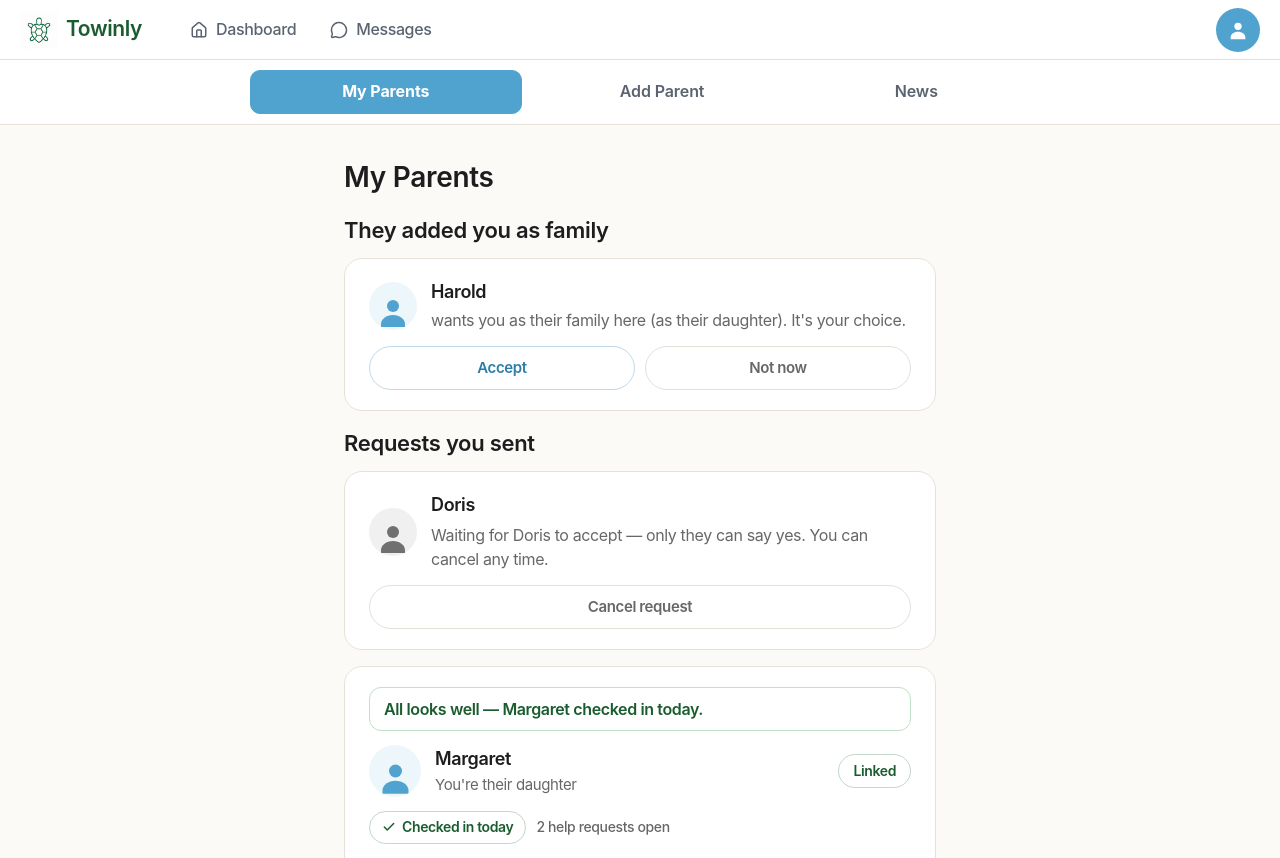
Test case: FamilyHome › explains the empty alert feed in plain words
expect the text "Margaret" is shown: met, box [435,748,511,769]
What coordinates should you click on to do the following:
click the tab "News"
I would click on:
 (916, 92)
Its box is [802,70,1030,114].
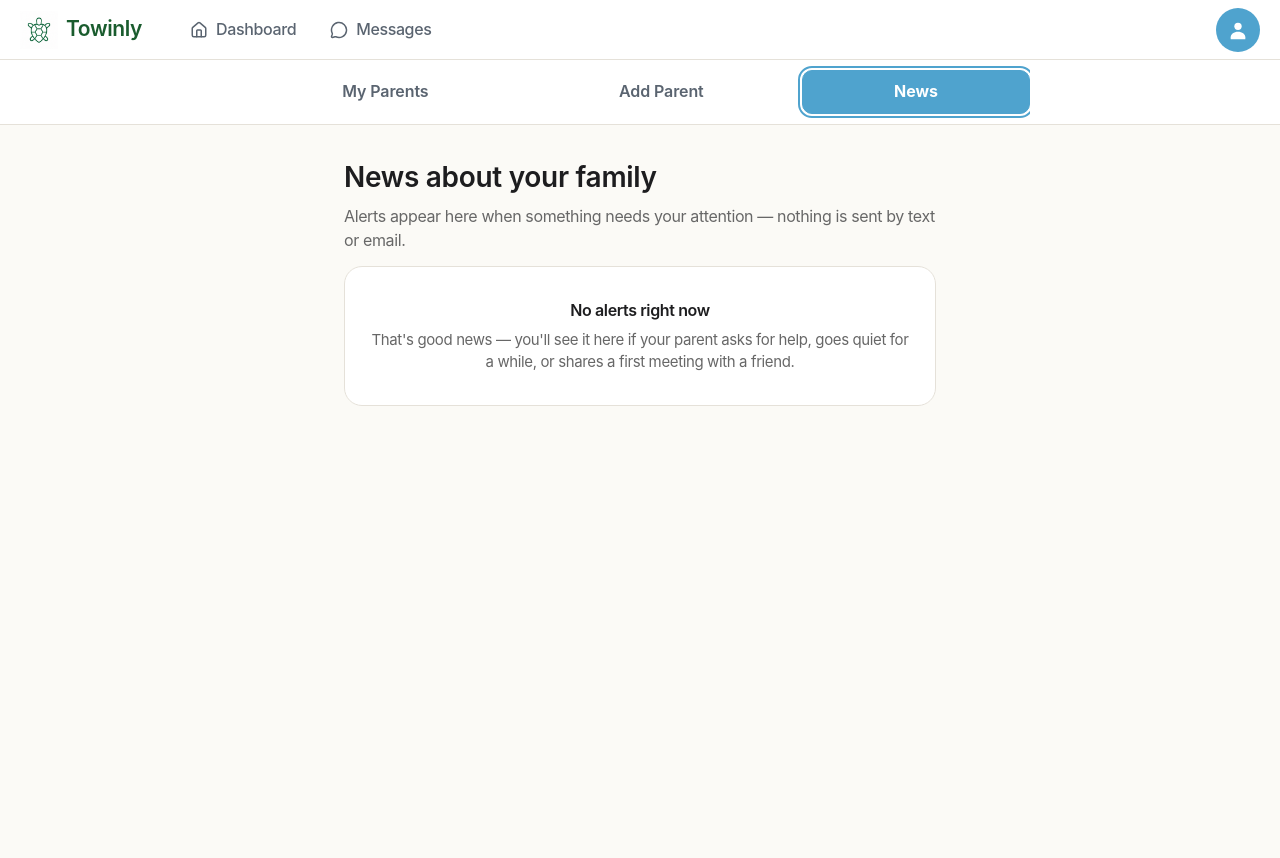
expect the text "No alerts right now" is shown: met, box [570,300,710,320]
